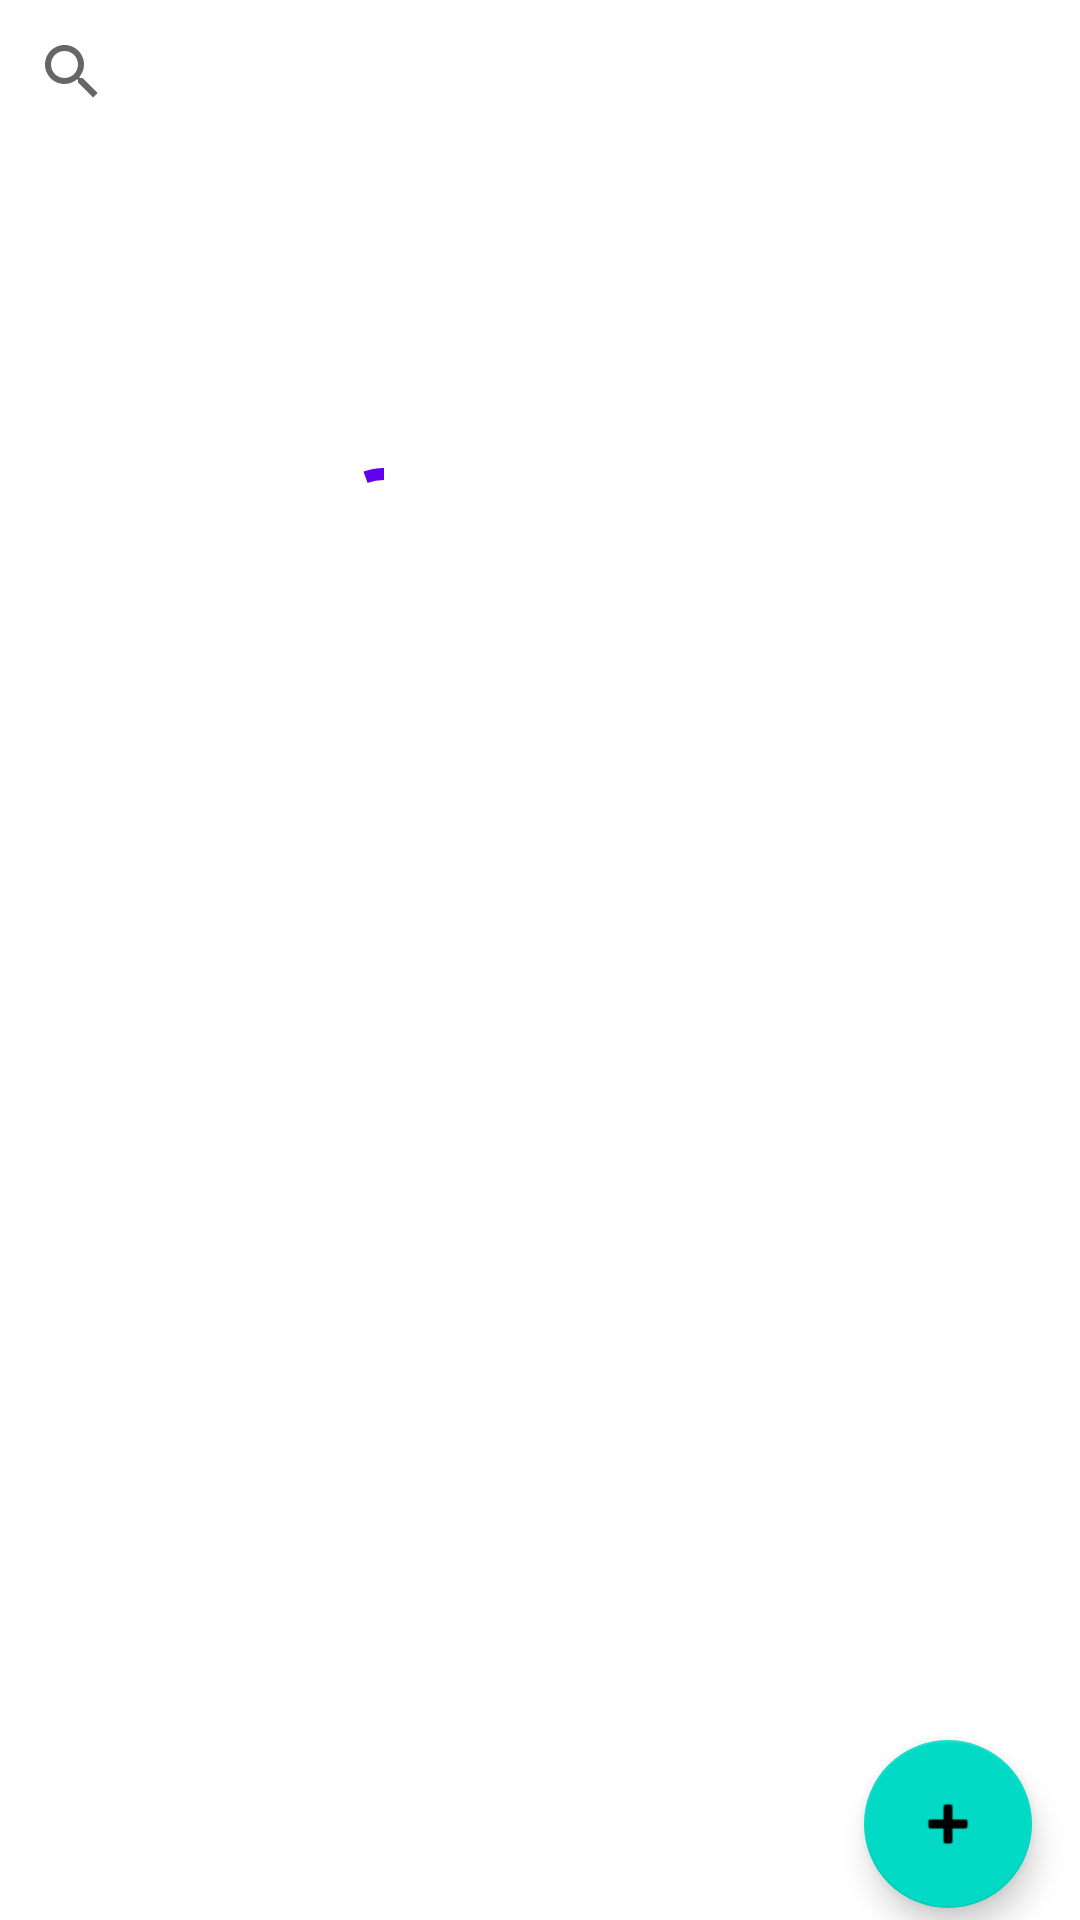

Icons on this 1080 × 1920 Android screen, each with the point to tap as (x=x, y=y):
add: (x=948, y=1824)
